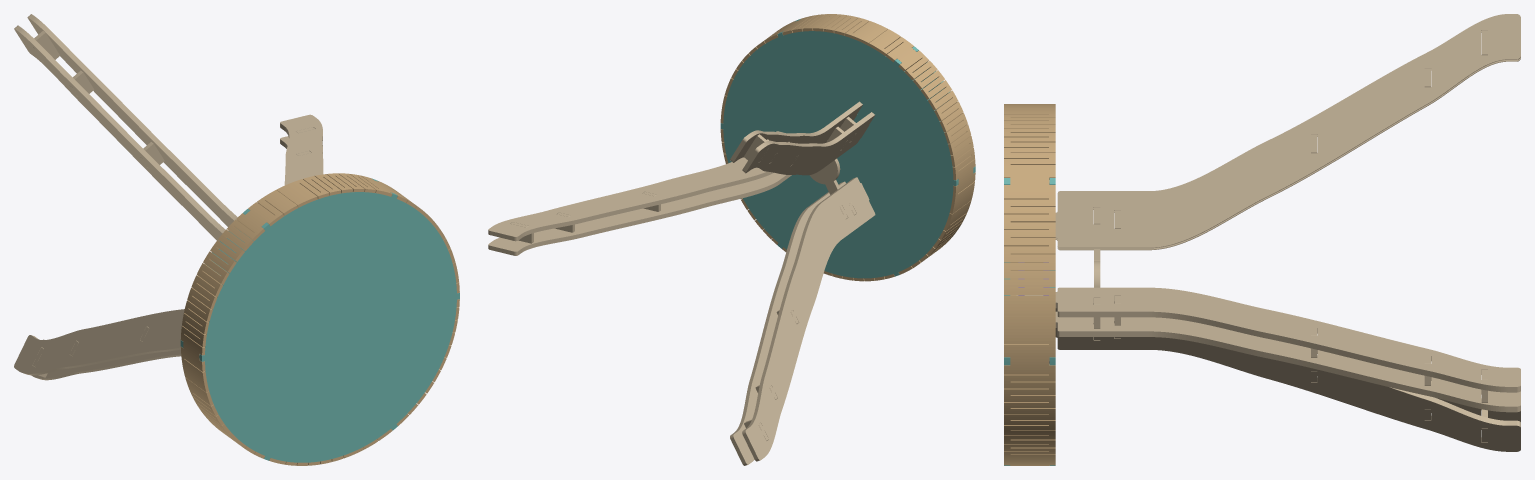
Rendered from C-actual-DESIGN_ONLY.glb.
The picture shows the model from 3 angles, left to right: view 1: azimuth 30°, elevation 25°; view 2: azimuth 150°, elevation 25°; view 3: azimuth 270°, elevation 25°; orthographic projection. The views are drawn at different scales.
Visible parts, largest first — view 1: P07T, L3_P01_1, P07R2, L2_P01_2, L2_P01_1, P07R1, L1_P01_2, P07R3, L3_P01_2, P07R4; view 2: P07B, L3_P01_1, L1_P01_2, P07R2, L1_P01_1, L2_P01_2, L3_P01_2, P07R1, L2_P01_1, P07R3, P03; view 3: L2_P01_1, L1_P01_2, P07R1, L3_P01_2, L1_P01_1, P07R4, L2_P01_2, P03.
Part boxes in pixels (bbox=[...]): P07T: bbox=[199, 192, 459, 462]; L3_P01_1: bbox=[14, 309, 184, 375]; P07R2: bbox=[180, 190, 297, 392]; L2_P01_2: bbox=[14, 25, 225, 241]; L2_P01_1: bbox=[27, 14, 237, 226]; P07R1: bbox=[276, 173, 455, 262]; L1_P01_2: bbox=[280, 114, 323, 185]; P07R3: bbox=[185, 377, 363, 465]; L3_P01_2: bbox=[31, 339, 181, 380]; P07R4: bbox=[363, 262, 459, 449]; P07B: bbox=[720, 31, 958, 278]; L3_P01_1: bbox=[742, 177, 875, 461]; L1_P01_2: bbox=[488, 131, 783, 241]; P07R2: bbox=[868, 29, 975, 213]; L1_P01_1: bbox=[488, 172, 791, 255]; L2_P01_2: bbox=[742, 112, 874, 175]; L3_P01_2: bbox=[730, 181, 845, 465]; P07R1: bbox=[724, 14, 887, 95]; L2_P01_1: bbox=[730, 101, 862, 162]; P07R3: bbox=[823, 200, 971, 281]; P03: bbox=[809, 116, 856, 214]; L2_P01_1: bbox=[1055, 14, 1520, 248]; L1_P01_2: bbox=[1016, 287, 1520, 392]; P07R1: bbox=[1004, 107, 1055, 316]; L3_P01_2: bbox=[1055, 321, 1520, 451]; L1_P01_1: bbox=[1055, 311, 1520, 412]; P07R4: bbox=[1004, 316, 1055, 465]; L2_P01_2: bbox=[1055, 31, 1520, 250]; P03: bbox=[1094, 207, 1100, 340].
Bounding box in the file's own units: 0.437 × 0.4673 × 0.5.
